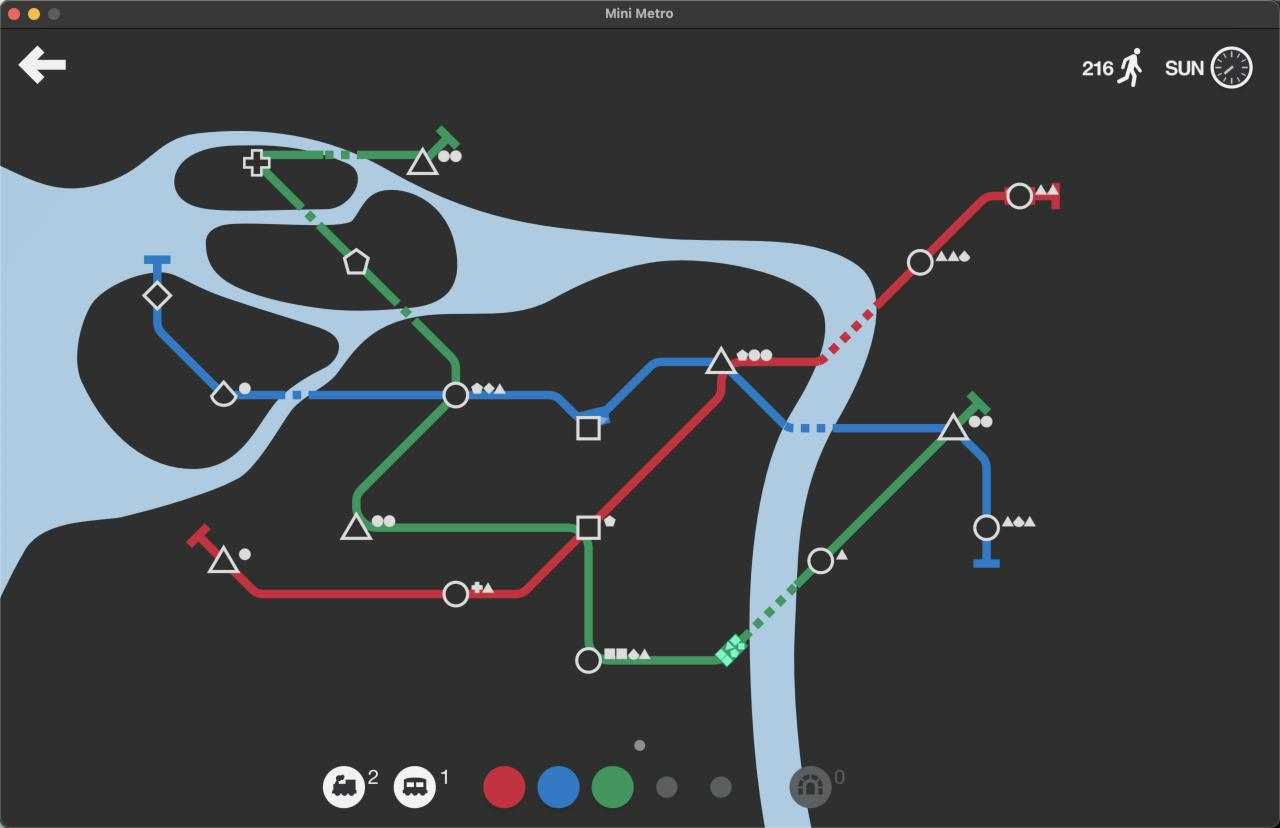CIRCLE: (1004, 181, 1034, 211), (806, 546, 835, 575), (972, 513, 1001, 542), (442, 579, 470, 609), (906, 248, 934, 276), (574, 646, 602, 674), (442, 381, 469, 409)
CROSS: (242, 149, 270, 176)
GEM: (142, 280, 172, 310)
PENTAGON: (342, 247, 369, 276)
SQUARE: (575, 514, 601, 541), (576, 415, 602, 441)
TRIANGLE: (936, 411, 970, 442), (208, 544, 241, 575), (406, 146, 439, 176), (705, 345, 736, 375), (340, 513, 372, 541)
WEDGE: (209, 380, 238, 408)
